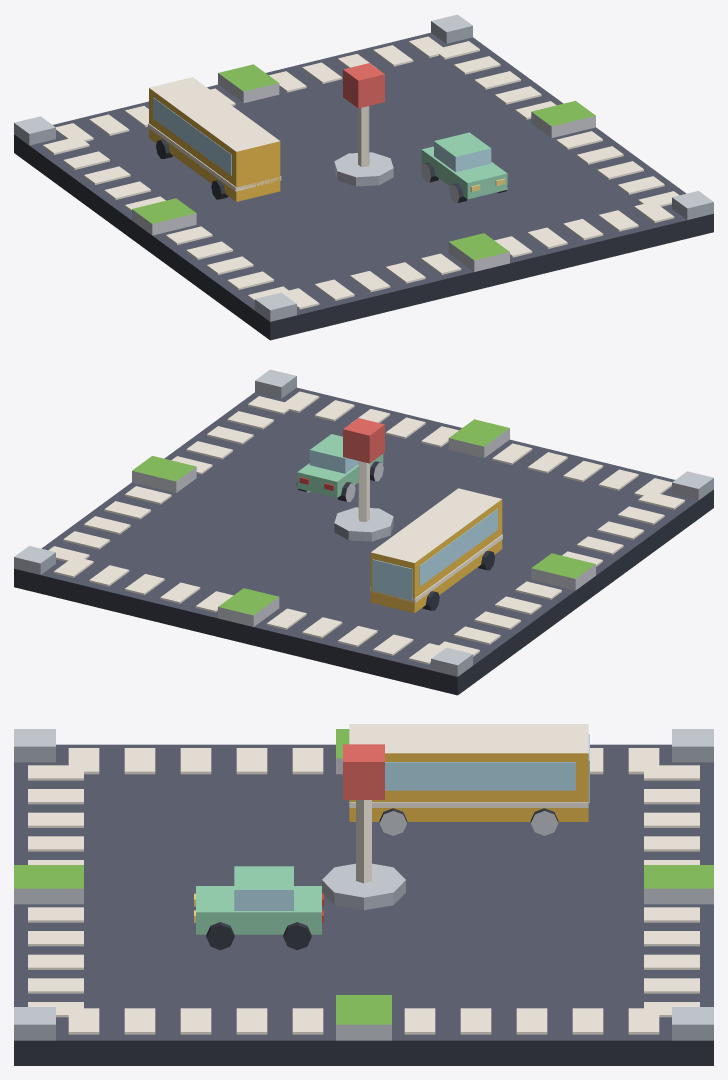
File: avenue_cross.glb
3 renders of one model, top to bottom at view 1: azimuth 30°, elevation 25°; view 2: azimuth 150°, elevation 25°; view 3: azimuth 270°, elevation 25°, orthographic. The views are drawn at different scales.
Parts seen in each view (by area): view 1: avenue_cross; view 2: avenue_cross; view 3: avenue_cross.
Boxes of the visible parts, x1=… form: avenue_cross: x1=14, y1=14, x2=713, y2=340; avenue_cross: x1=14, y1=369, x2=713, y2=695; avenue_cross: x1=14, y1=724, x2=713, y2=1065.
Size of the model in its own units: 1 by 0.26 by 1.
